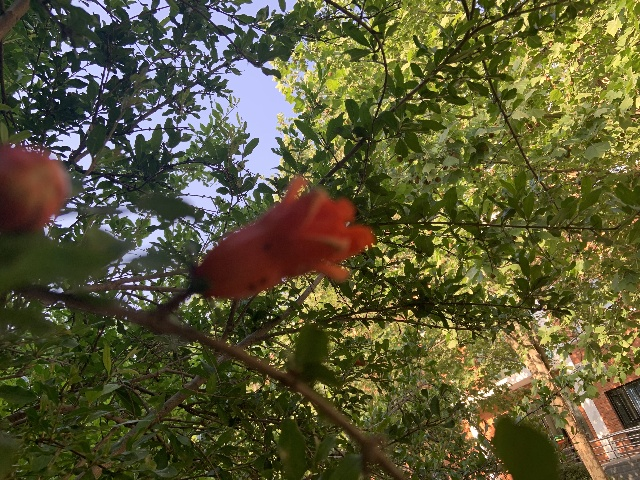bud: (0, 143, 70, 234)
flower: (194, 177, 375, 299)
